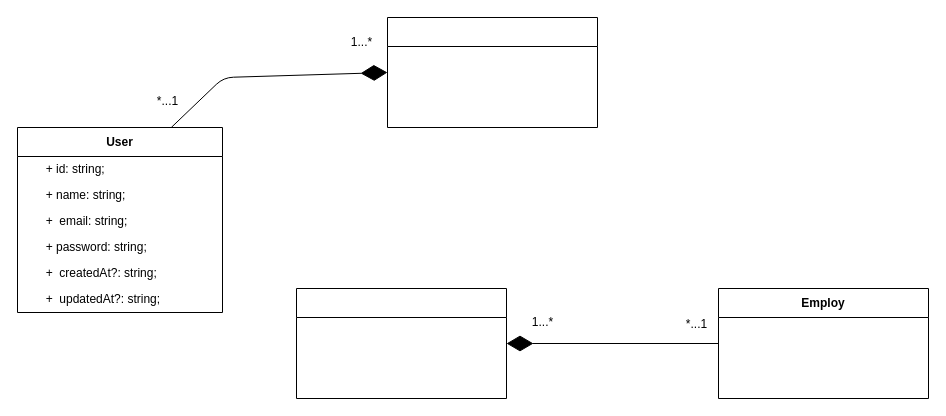
The diagram is 946 pixels wide and 416 high, and some of its shapes have lost their labels. Each missing label, with the centre of its shape:
Professional: point (401, 343)
Store: point (492, 72)
